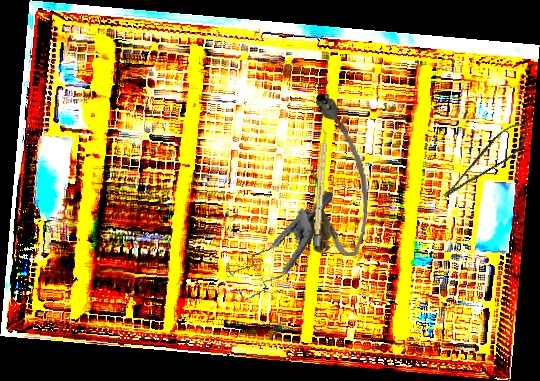Cannula: (305, 92, 372, 258)
Micro Scissor: (431, 116, 538, 202)
Scalpel Handle: (312, 128, 329, 247)
Speculum: (220, 173, 334, 314)
